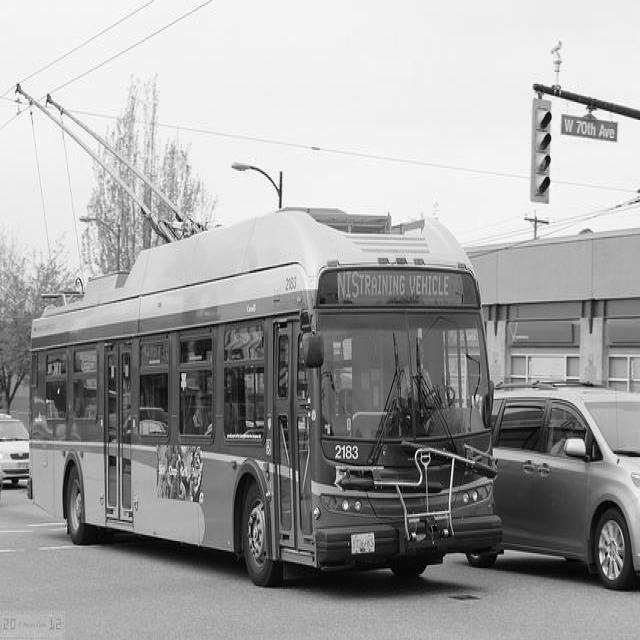vehicle: (27, 211, 505, 585), (474, 387, 640, 587), (2, 415, 30, 490), (139, 420, 169, 438)
